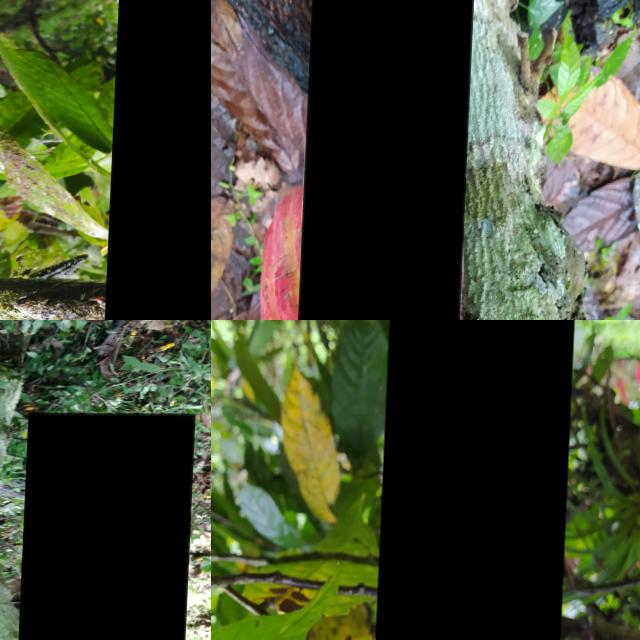Fitoftora: (297, 0, 475, 320), (22, 412, 197, 640), (108, 0, 211, 320)
Monilia: (374, 320, 577, 640)
Sana: (258, 181, 371, 320)
